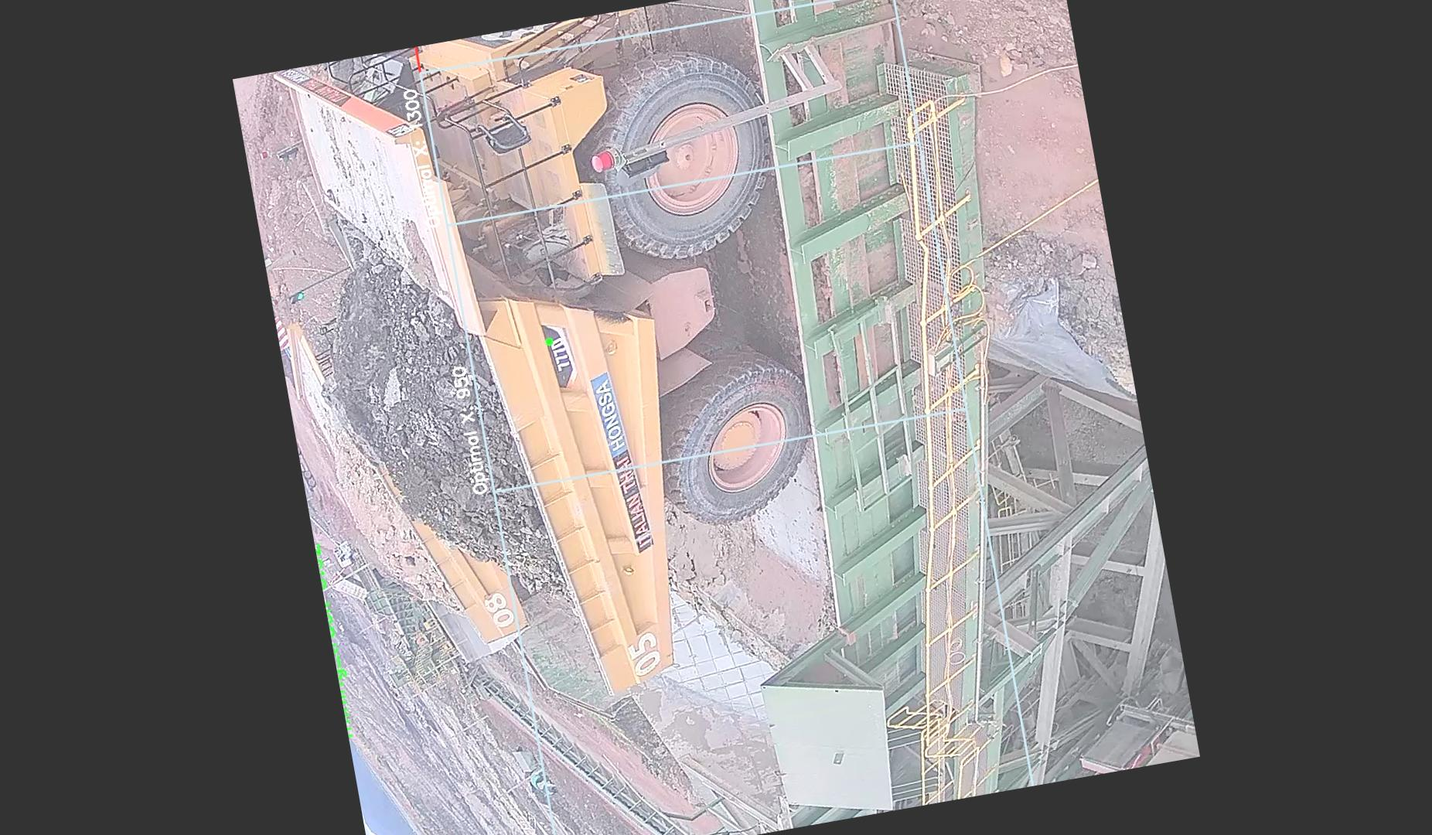company: (583, 359, 660, 557)
full_load: (308, 261, 546, 581)
mining_truck: (256, 0, 858, 755)
tail_number: (615, 616, 673, 688)
truck_size: (535, 315, 581, 394)
